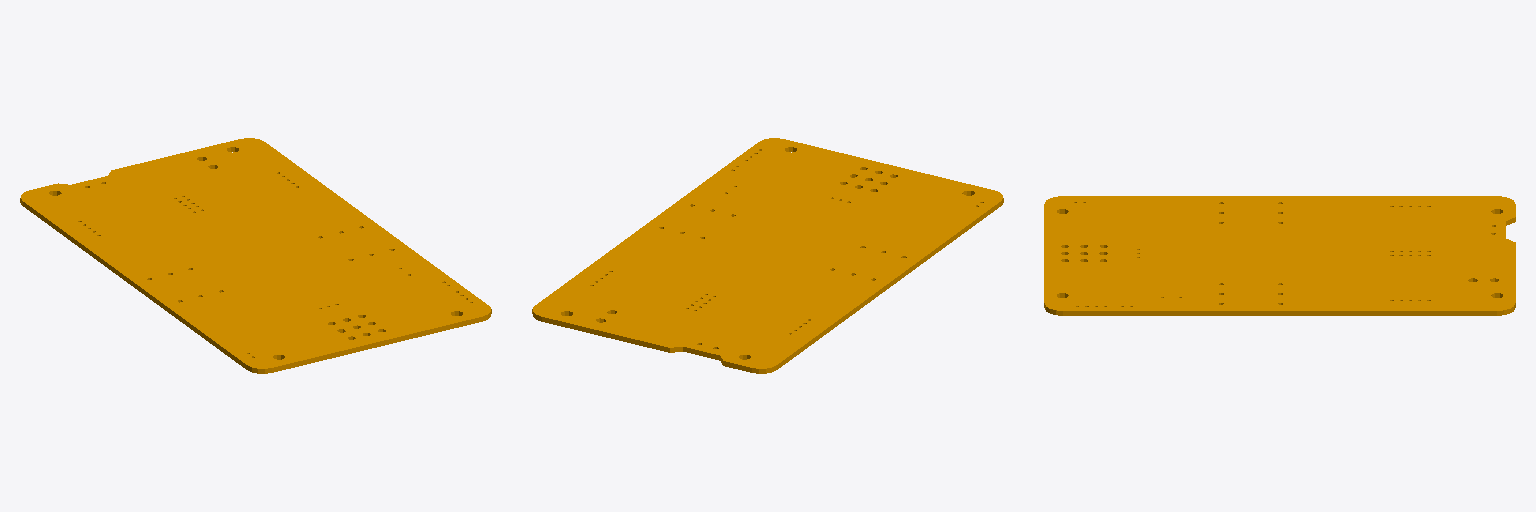
The robot description file, URDF, robot "pcb":
<?xml version="1.0" ?>
<robot name="pcb">
  <!-- <link name="world"/> -->
  <link name="pcb">
    <visual>
      <geometry>
        <mesh filename="package://ur5_vacuum_demo/urdf/models/board.stl" scale="0.001 0.001 0.001" />
      </geometry>
    </visual>
    <collision>
      <geometry>
        <mesh filename="package://ur5_vacuum_demo/urdf/models/board.stl" scale="0.001 0.001 0.001"  />
      </geometry>
    </collision>
    <inertial>
      <mass value="0.1" />
      <inertia ixx="1" ixy="0.0" ixz="0.0" 
               iyy="1" iyz="0.0" 
               izz="1" />
    </inertial>
  </link>
<!--   <joint name="pcb_joint" type="prismatic">
    <parent link="world" />
    <child link = "pcb" />
    <origin xyz="0 0 0" rpy="0.0 0.0 0.0" />
    <limit upper="10" lower="-10" effort="1" velocity="1"/>
    <axis xyz="1 1 0"/>
  </joint> -->
  <gazebo reference="pcb">
    <material>Gazebo/Orange</material>
    <mu1>5</mu1>
    <mu2>5</mu2>
  </gazebo>
</robot>

--- Render facts (derived) ---
3 views of the same robot in one strip: view 1: azimuth 30°, elevation 25°; view 2: azimuth 150°, elevation 25°; view 3: azimuth 270°, elevation 25° (orthographic).
Robot: pcb — 1 links, 0 joints (none); root link pcb; default pose: all joints at 0.
Links seen in each view (by area): view 1: pcb; view 2: pcb; view 3: pcb.
Link boxes in pixels (x1,y1,x2,y2): pcb: (20,138,491,373); pcb: (532,138,1003,373); pcb: (1044,196,1515,315).
Size in the robot's own frame: 0.075 by 0.13 by 0.0015 metres.
1 mesh visuals loaded from 1 distinct referenced files (1 binary STL).